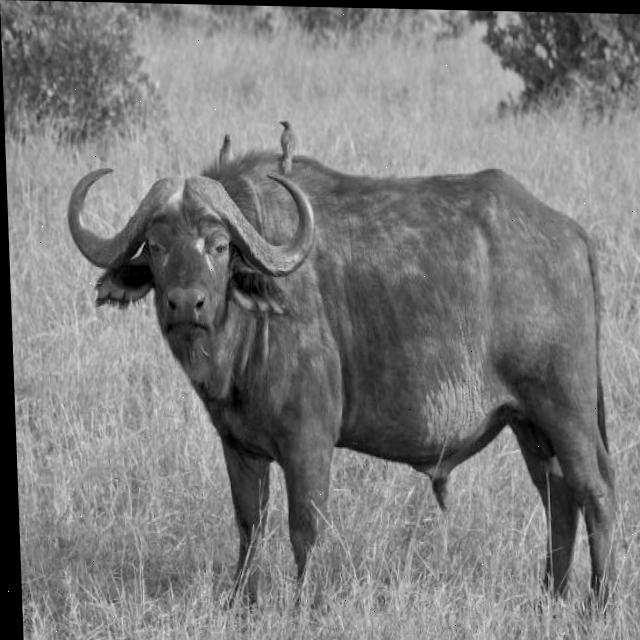Buffalo: (64, 145, 625, 625)
